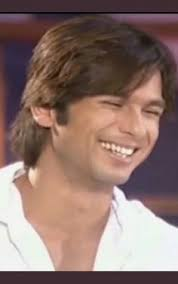Indian_Male: (83, 71, 175, 183)
